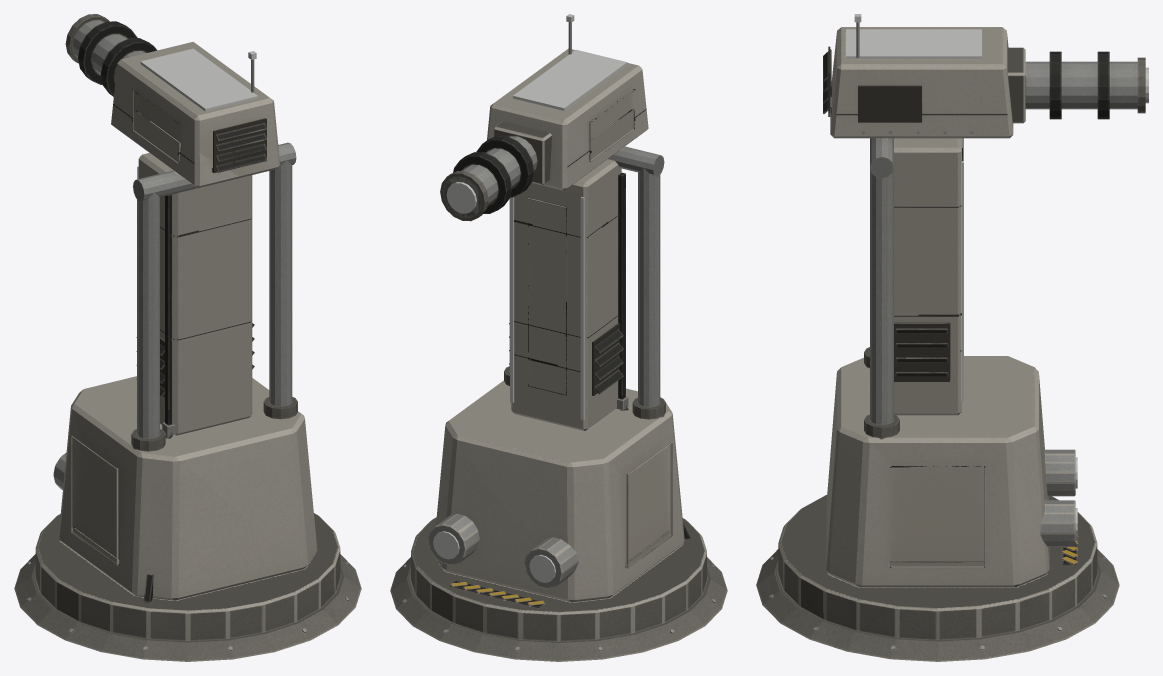
File: ord_beamer.fbx
The picture shows the model from 3 angles, left to right: view 1: azimuth 30°, elevation 25°; view 2: azimuth 150°, elevation 25°; view 3: azimuth 270°, elevation 25°; orthographic projection. The views are drawn at different scales.
Visible parts, largest first — view 1: base_bar, turret_bar, barrel_bar, turret_glow_running_bar; view 2: base_bar, turret_bar, barrel_bar, turret_glow_running_bar, base_glow_running_bar, barrel_glow_weapon_bar; view 3: base_bar, turret_bar, barrel_bar, turret_glow_running_bar, base_glow_running_bar.
Part boxes in pixels (x1,y1,x2,y2): base_bar: (14, 142, 361, 661); turret_bar: (111, 41, 280, 188); barrel_bar: (65, 14, 157, 120); turret_glow_running_bar: (140, 48, 258, 111); base_bar: (390, 146, 727, 661); turret_bar: (487, 22, 648, 190); barrel_bar: (440, 121, 551, 221); turret_glow_running_bar: (513, 14, 627, 110); base_glow_running_bar: (433, 197, 584, 582); barrel_glow_weapon_bar: (446, 182, 476, 213); base_bar: (756, 138, 1119, 661); turret_bar: (823, 22, 1013, 138); barrel_bar: (1008, 47, 1145, 123); turret_glow_running_bar: (846, 14, 981, 58); base_glow_running_bar: (962, 138, 1077, 539).
Size of the model in its own units: 1089 by 2128 by 1177.
Materials: 2 (2 with a texture image).
